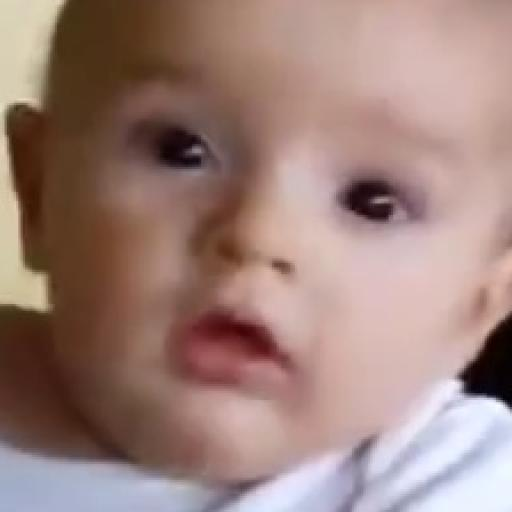Autism: (21, 0, 512, 494)
